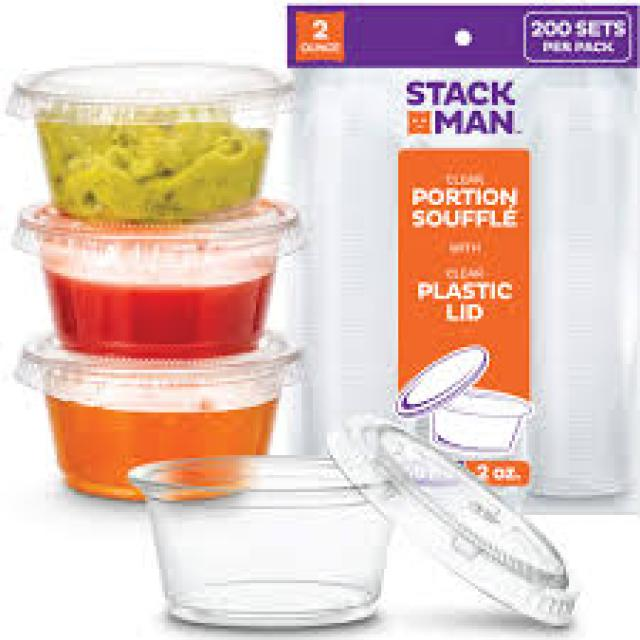disposable: (118, 454, 417, 640), (20, 329, 301, 521), (22, 60, 293, 235), (38, 196, 301, 344)
